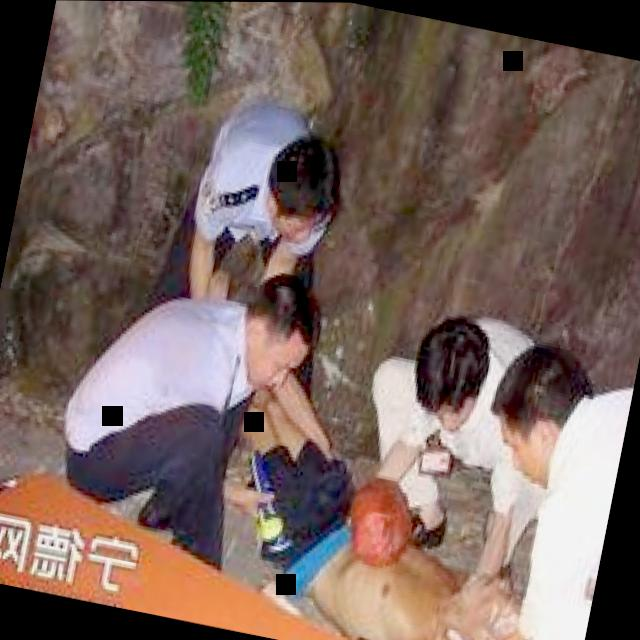Fall-Detected: (192, 317, 523, 640)
